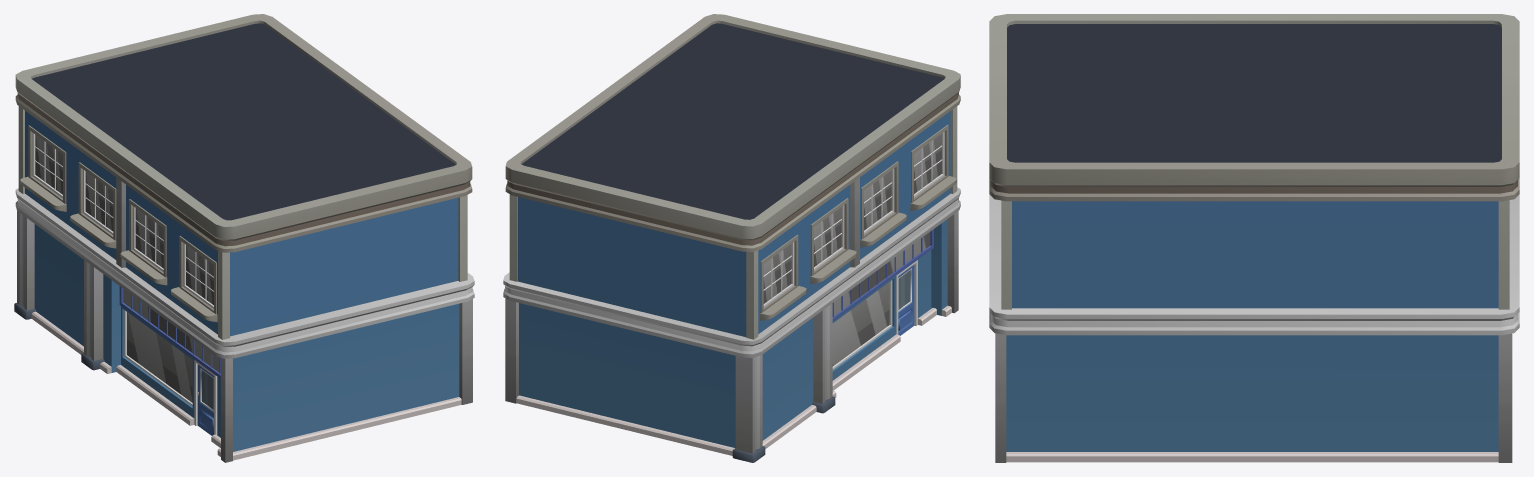
The model's file is Building_11_2_F.fbx.
The picture shows the model from 3 angles, left to right: view 1: azimuth 30°, elevation 25°; view 2: azimuth 150°, elevation 25°; view 3: azimuth 270°, elevation 25°; orthographic projection. The views are drawn at different scales.
Visible parts, largest first — view 1: Building_11_2_F; view 2: Building_11_2_F; view 3: Building_11_2_F.
Boxes of the visible parts, x1,y1,x2,y2 form: Building_11_2_F: [14, 14, 474, 462]; Building_11_2_F: [503, 14, 960, 462]; Building_11_2_F: [989, 14, 1519, 462].
Bounding box in the file's own units: 827 × 714 × 1163.
